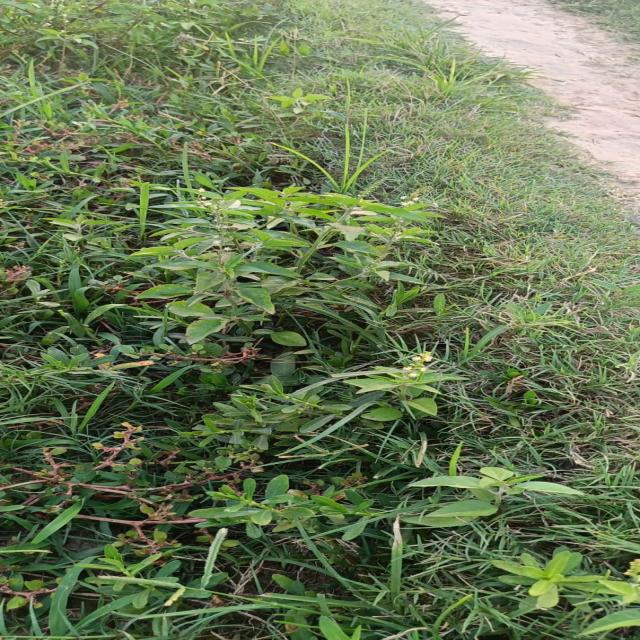plant: (132, 188, 435, 349), (330, 353, 462, 421)
